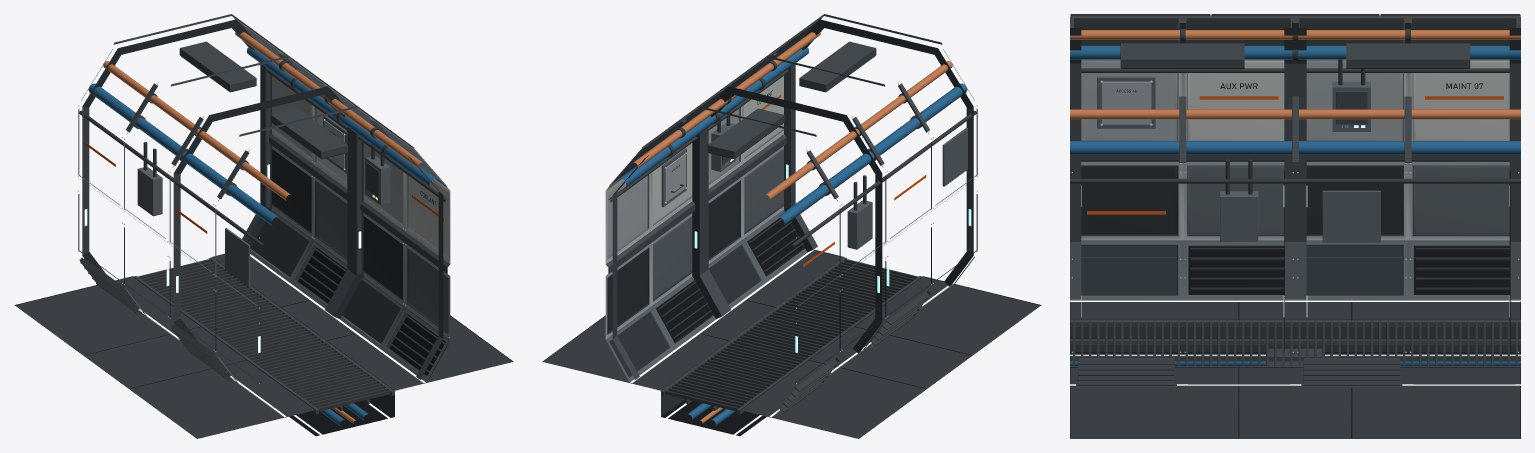
The model's file is corridor_straight.glb.
The picture shows the model from 3 angles, left to right: view 1: azimuth 30°, elevation 25°; view 2: azimuth 150°, elevation 25°; view 3: azimuth 270°, elevation 25°; orthographic projection. The views are drawn at different scales.
Parts seen in each view (by area): view 1: corridor_straight_body, corridor_straight_detail, corridor_straight_pipes, corridor_straight_decal; view 2: corridor_straight_body, corridor_straight_detail, corridor_straight_pipes, corridor_straight_decal; view 3: corridor_straight_body, corridor_straight_detail, corridor_straight_pipes, corridor_straight_decal.
Part boxes in pixels (x1,y1,x2,y2): corridor_straight_body: (14, 14, 513, 438); corridor_straight_detail: (78, 41, 449, 414); corridor_straight_pipes: (79, 32, 447, 426); corridor_straight_decal: (83, 131, 444, 434); corridor_straight_body: (542, 14, 1041, 438); corridor_straight_detail: (606, 41, 977, 414); corridor_straight_pipes: (608, 32, 976, 426); corridor_straight_decal: (630, 90, 971, 434); corridor_straight_body: (1070, 14, 1520, 438); corridor_straight_detail: (1070, 20, 1520, 385); corridor_straight_pipes: (1070, 30, 1520, 365); corridor_straight_decal: (1070, 83, 1520, 385).
Size of the model in its own units: 4 by 3.2 by 4.
